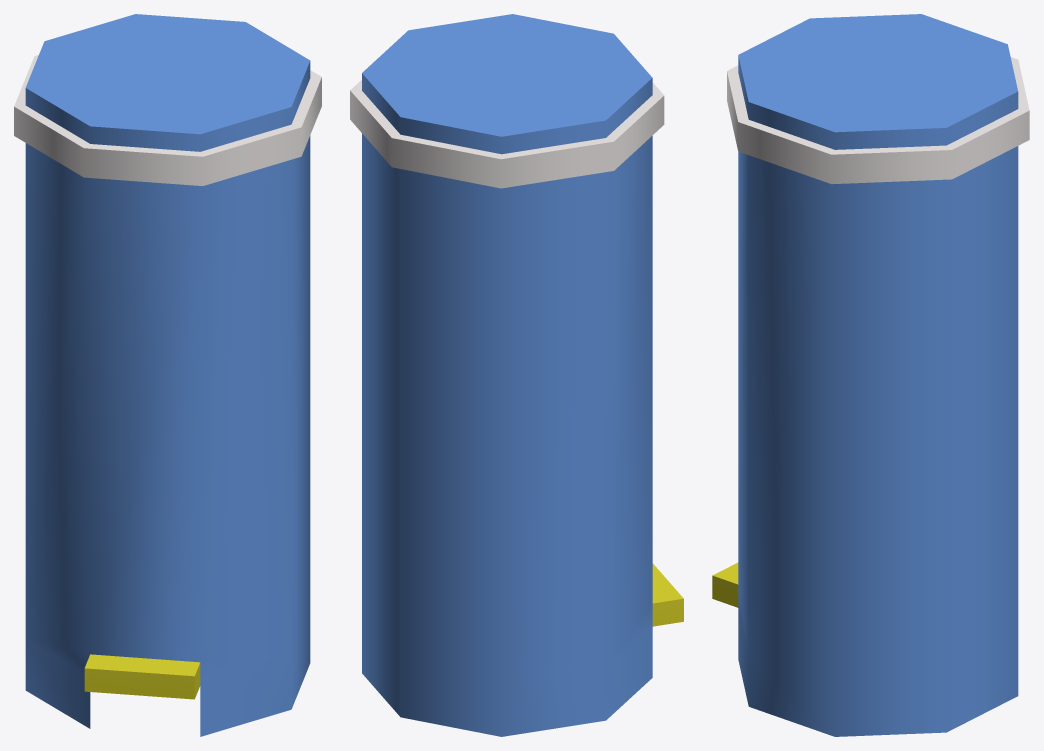
The model's file is Ray_Center.fbx.
The picture shows the model from 3 angles, left to right: view 1: azimuth 30°, elevation 25°; view 2: azimuth 150°, elevation 25°; view 3: azimuth 270°, elevation 25°; orthographic projection.
Parts seen in each view (by area): view 1: Ray_Center; view 2: Ray_Center; view 3: Ray_Center.
Part boxes in pixels (box(x1,y1,x2,y2)): Ray_Center: box(14, 14, 321, 736); Ray_Center: box(350, 14, 683, 736); Ray_Center: box(712, 14, 1029, 736).
Size of the model in its own units: 1.66 by 3.66 by 1.74.
